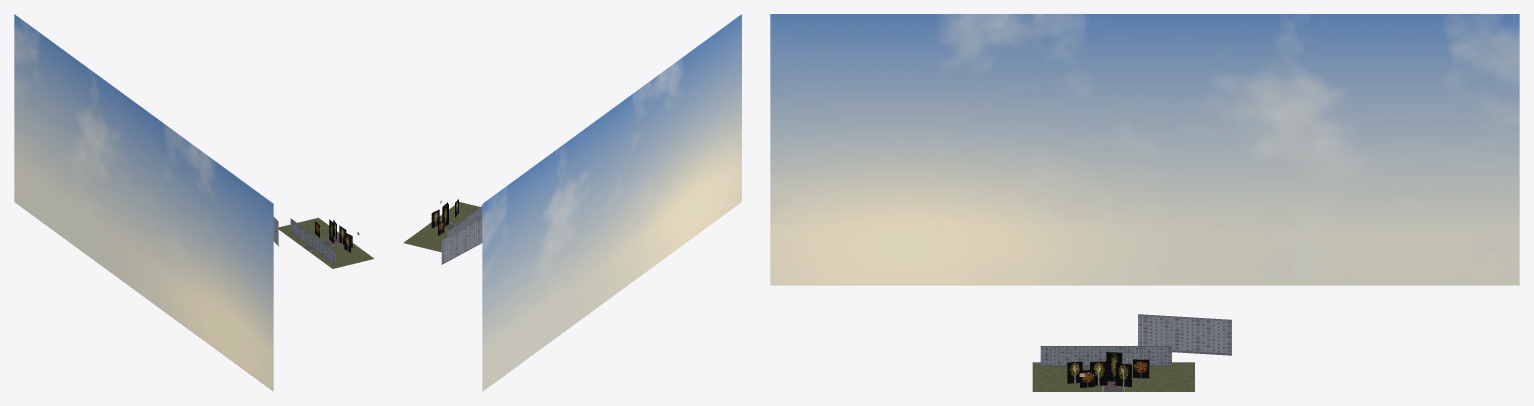
File: room_window.glb
3 renders of one model, left to right at view 1: azimuth 30°, elevation 25°; view 2: azimuth 150°, elevation 25°; view 3: azimuth 270°, elevation 25°, orthographic. The views are drawn at different scales.
Parts seen in each view (by area): view 1: F60_Sky, F60_YardGround, F60_House5; view 2: F60_Sky, F60_YardGround, F60_House9, F60_House5; view 3: F60_Sky, F60_House9, F60_YardGround, F60_House5.
Part boxes in pixels (x1,y1,x2,y2): F60_Sky: [14, 14, 273, 391]; F60_YardGround: [278, 217, 374, 268]; F60_House5: [290, 218, 335, 265]; F60_Sky: [482, 14, 741, 391]; F60_YardGround: [403, 202, 480, 252]; F60_House9: [441, 218, 482, 264]; F60_House5: [447, 206, 482, 236]; F60_Sky: [770, 14, 1519, 285]; F60_House9: [1138, 314, 1231, 355]; F60_YardGround: [1032, 362, 1194, 391]; F60_House5: [1040, 346, 1171, 366].
Size of the model in its own units: 2594 by 2400 by 6000.
Materials: 34 (16 with a texture image).
